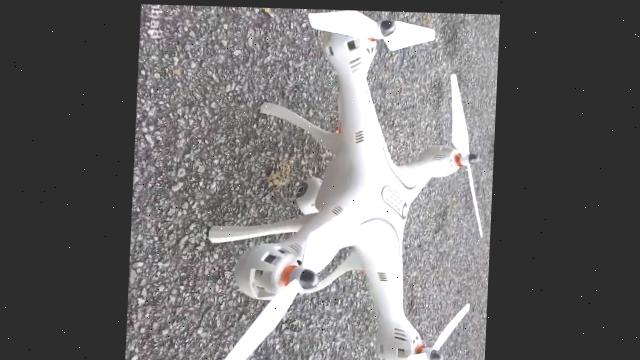drone: (194, 5, 494, 360)
